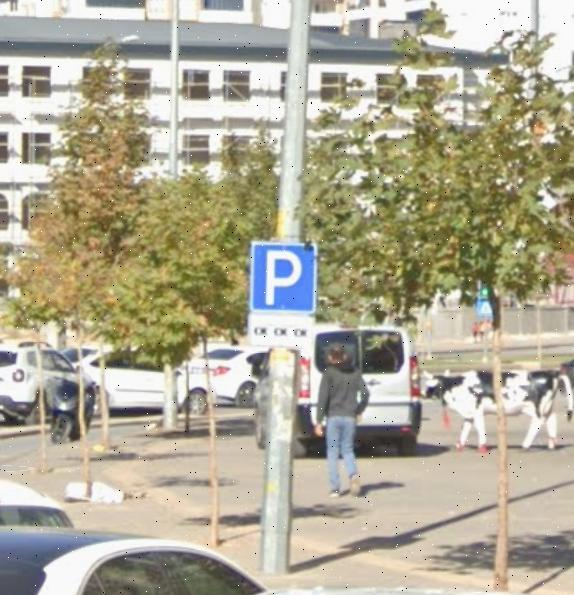park: (250, 240, 317, 311)
